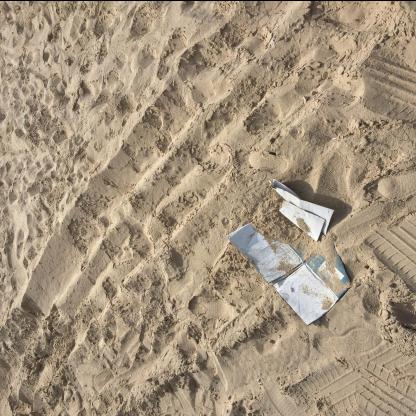karton: (226, 177, 352, 325)
